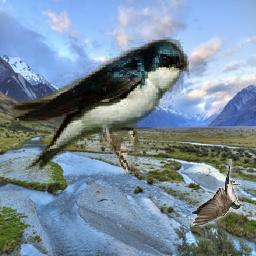Swallow: (5, 38, 189, 179), (192, 160, 243, 227)
